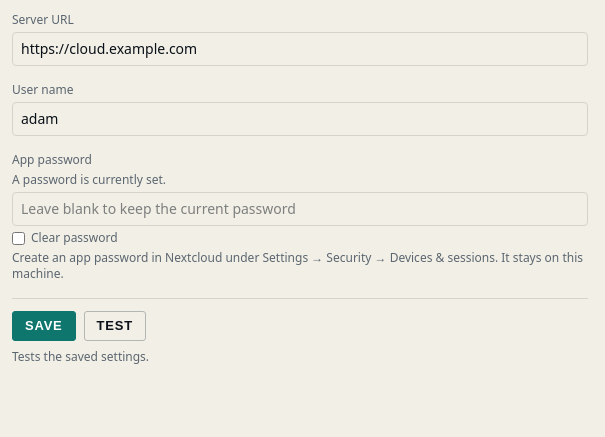
Test case: NextcloudPanel › Test shows the result per app
The image size is (605, 437).
expect the field showing "adam" is shown: met, box [12,102,588,136]
Click the button "Test" at {"x": 115, "y": 326}, box [84,311,146,341]
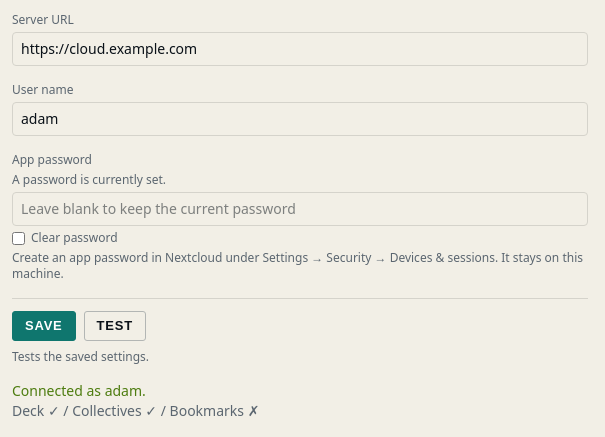
expect the text "Connected as adam." is shown: met, box [12,381,146,400]
expect the text with test id "nextcloud-apps" reads "Deck ✓ / Collectives ✓ / Bookmarks ✗": met, box [12,401,259,420]
